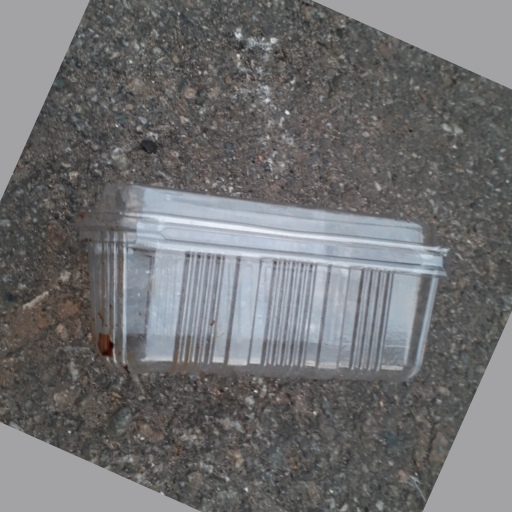Plastic_4: (79, 182, 448, 383)
